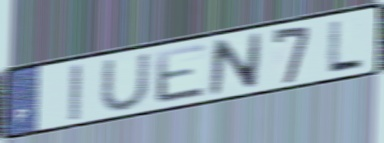7: (272, 24, 311, 86)
E: (153, 40, 208, 106)
I: (67, 61, 84, 124)
L: (323, 17, 366, 74)
N: (206, 30, 264, 98)
U: (97, 50, 153, 112)
